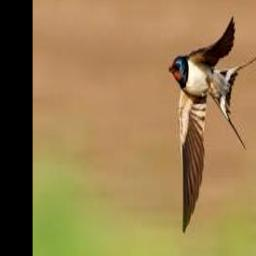Swallow: (168, 16, 256, 234)
